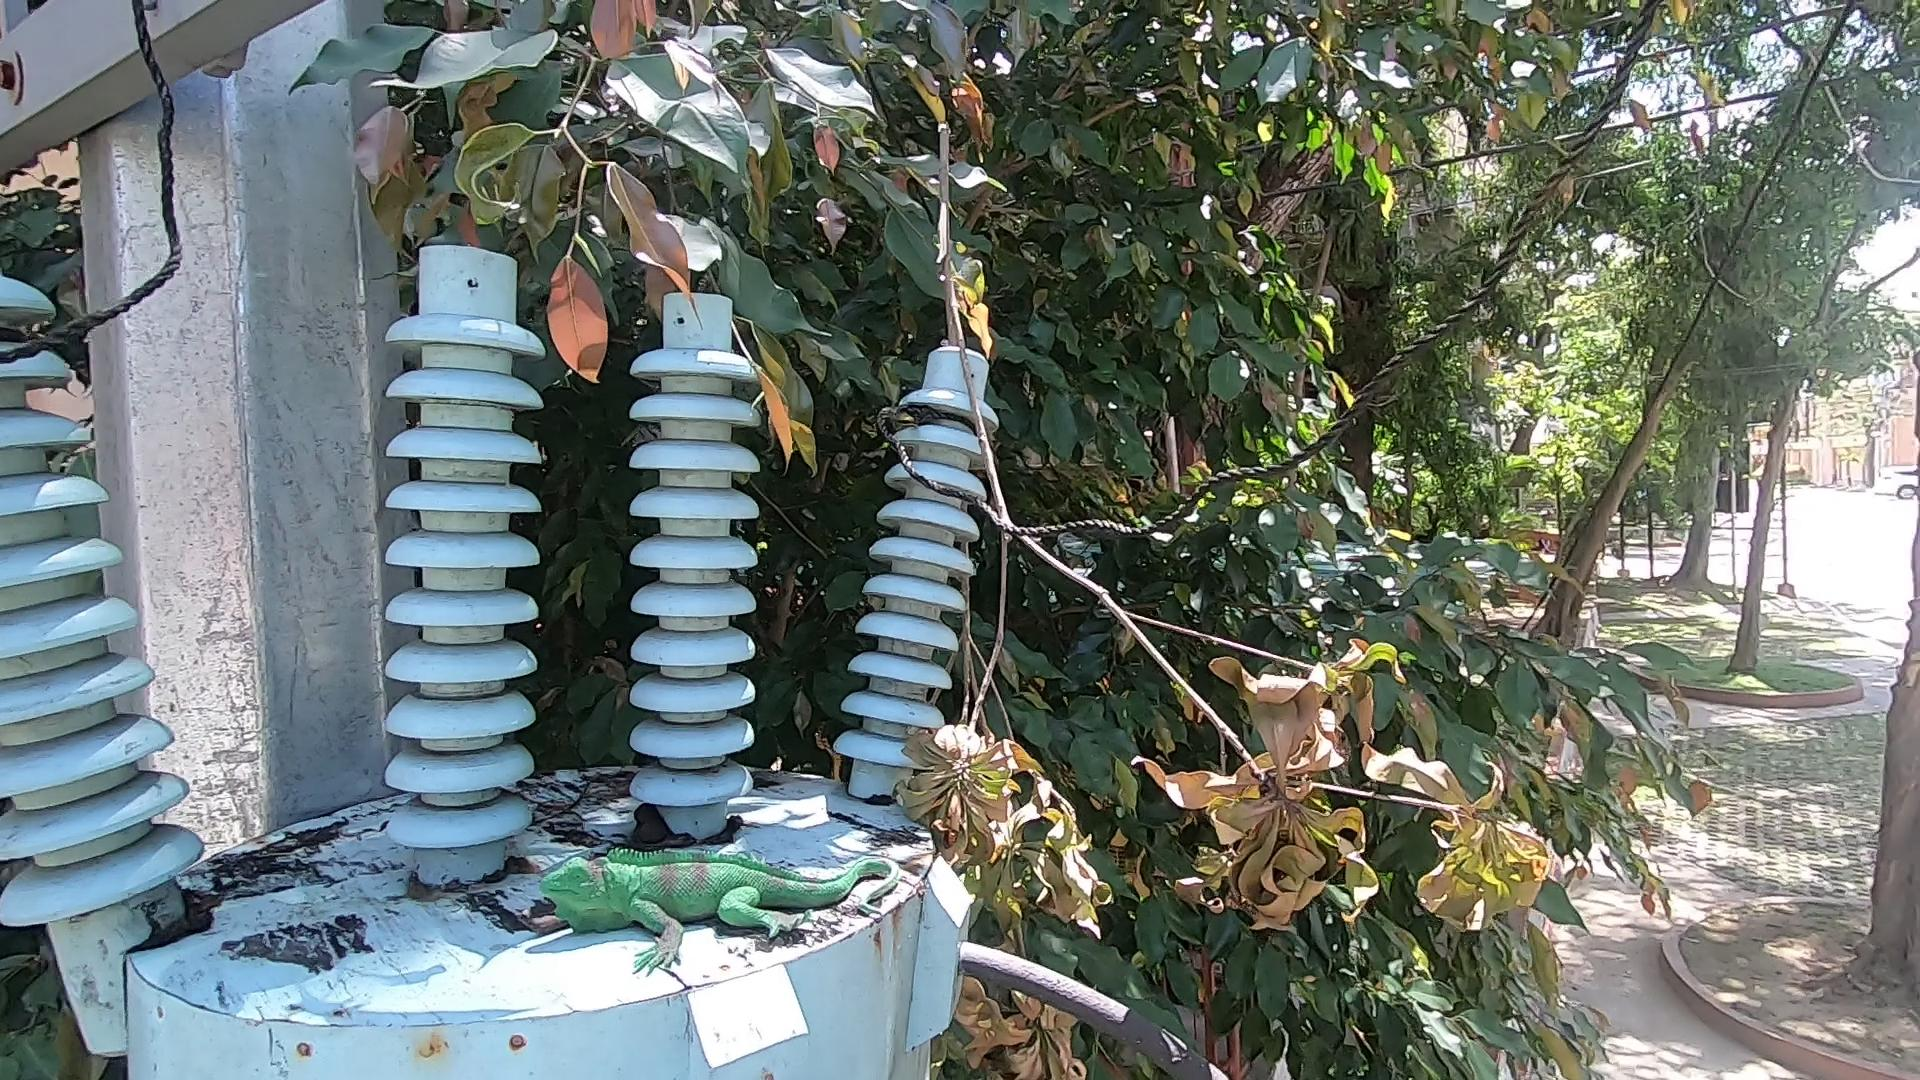branch with leaves: (898, 112, 1592, 1080)
leaf: (622, 794, 690, 847), (489, 899, 564, 938), (700, 811, 762, 844)
tree branch: (533, 774, 600, 807)
